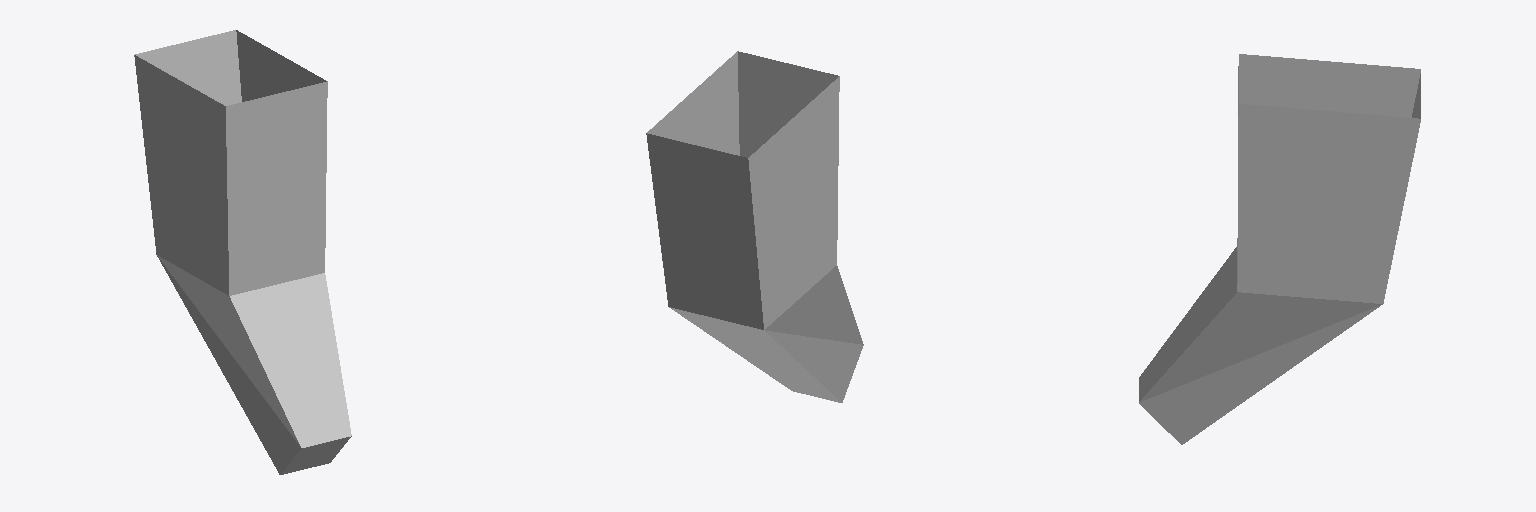
File: Pistol_Trigger.obj
The picture shows the model from 3 angles: view 1: azimuth 30°, elevation 25°; view 2: azimuth 150°, elevation 25°; view 3: azimuth 270°, elevation 25°; orthographic projection.
Parts seen in each view (by area): view 1: Pistol_trigger; view 2: Pistol_trigger; view 3: Pistol_trigger.
Boxes of the visible parts, box(x1,y1,x2,y2) form: Pistol_trigger: box(134, 30, 351, 474); Pistol_trigger: box(646, 51, 863, 402); Pistol_trigger: box(1139, 54, 1420, 444).
Size of the model in its own units: 0.5135 by 1.71 by 1.23.